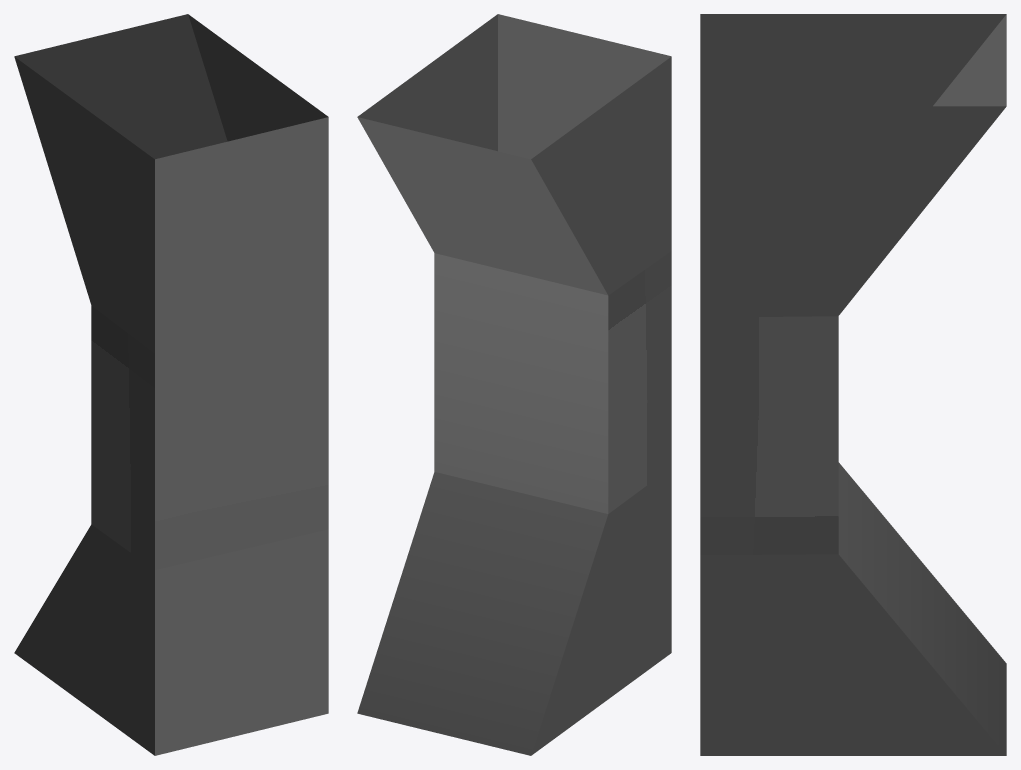
Rendered from stat_bridge2.glb.
3 views of the same model, side by side, from view 1: azimuth 30°, elevation 25°; view 2: azimuth 150°, elevation 25°; view 3: azimuth 270°, elevation 25° (orthographic). The views are drawn at different scales.
Parts seen in each view (by area): view 1: group_13; view 2: group_13; view 3: group_13.
Boxes of the visible parts, x1=… form: group_13: x1=14, y1=14, x2=328, y2=755; group_13: x1=357, y1=14, x2=671, y2=755; group_13: x1=700, y1=14, x2=1006, y2=755.
Size of the model in its own units: 2498 by 8192 by 3502.
1 material, 1 textured.
